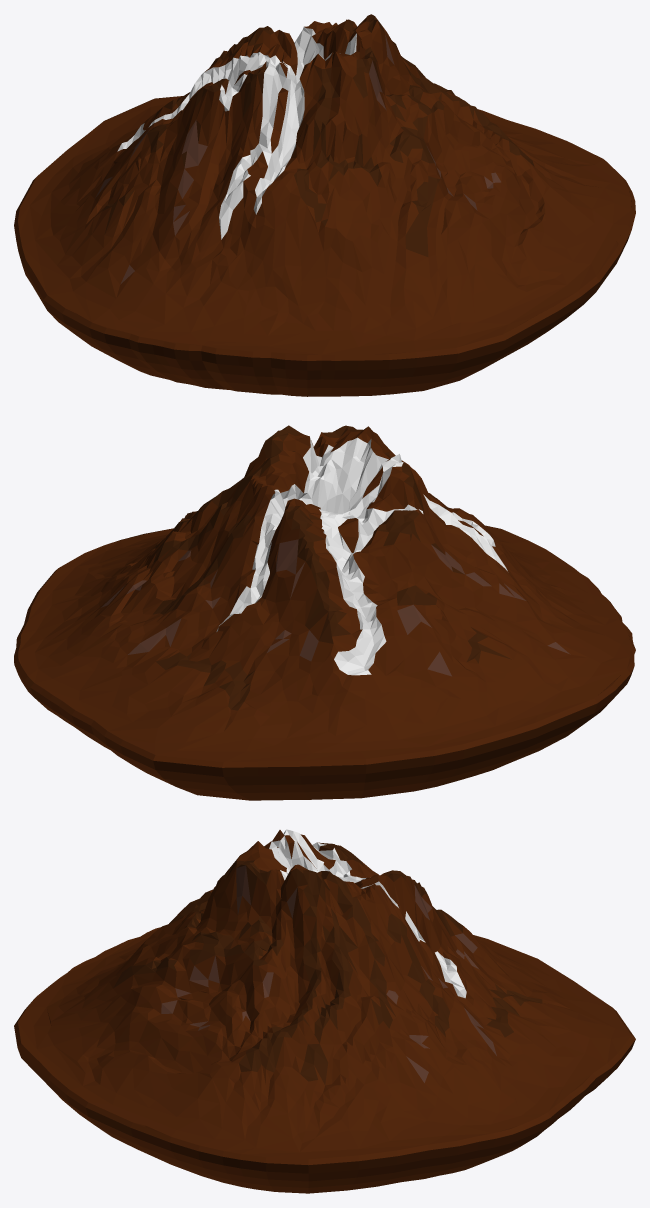
Rendered from Volcan.fbx.
The picture shows the model from 3 angles, top to bottom: view 1: azimuth 30°, elevation 25°; view 2: azimuth 150°, elevation 25°; view 3: azimuth 270°, elevation 25°; orthographic projection. The views are drawn at different scales.
Visible parts, largest first — view 1: Landscape, Landscape.001; view 2: Landscape, Landscape.001; view 3: Landscape, Landscape.001.
Boxes of the visible parts, x1,y1,x2,y2 form: Landscape: (18, 14, 631, 355); Landscape.001: (14, 96, 635, 396); Landscape: (18, 425, 631, 761); Landscape.001: (14, 525, 635, 800); Landscape: (18, 829, 631, 1159); Landscape.001: (14, 971, 635, 1193).
Bounding box in the file's own units: 213 × 121 × 220.
